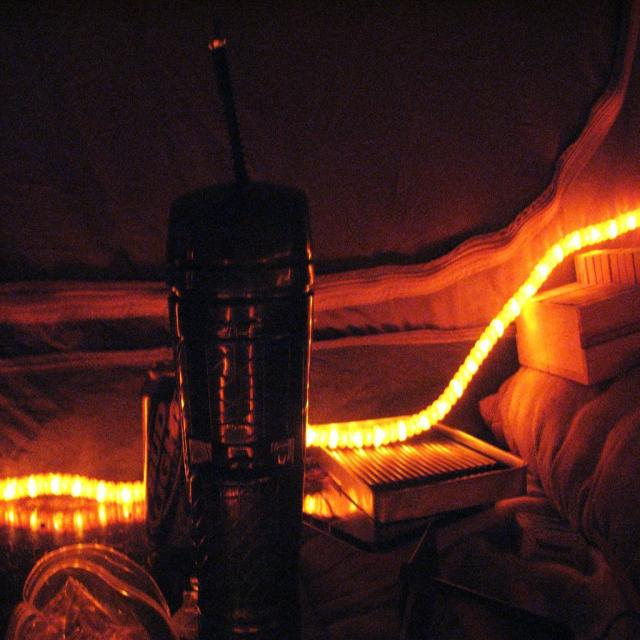Bottle: (155, 179, 363, 640)
